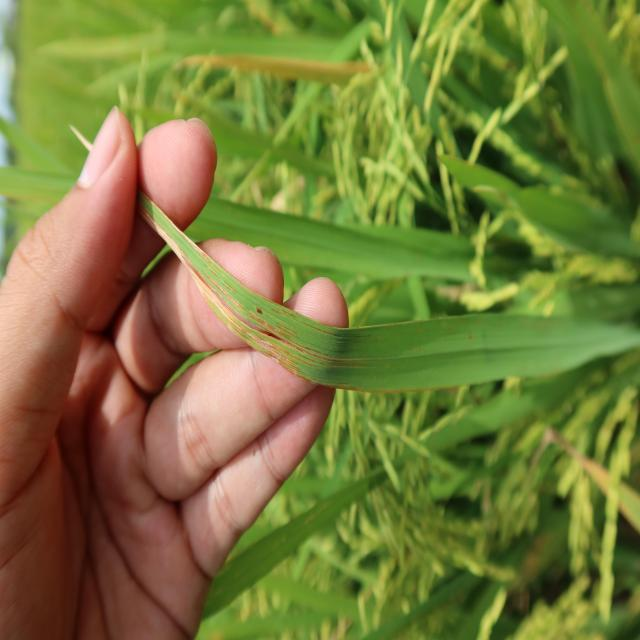Dom soc vi khuan: (169, 234, 368, 364), (207, 292, 318, 372), (163, 213, 209, 261), (202, 269, 245, 312), (249, 311, 291, 340), (305, 322, 341, 338)
